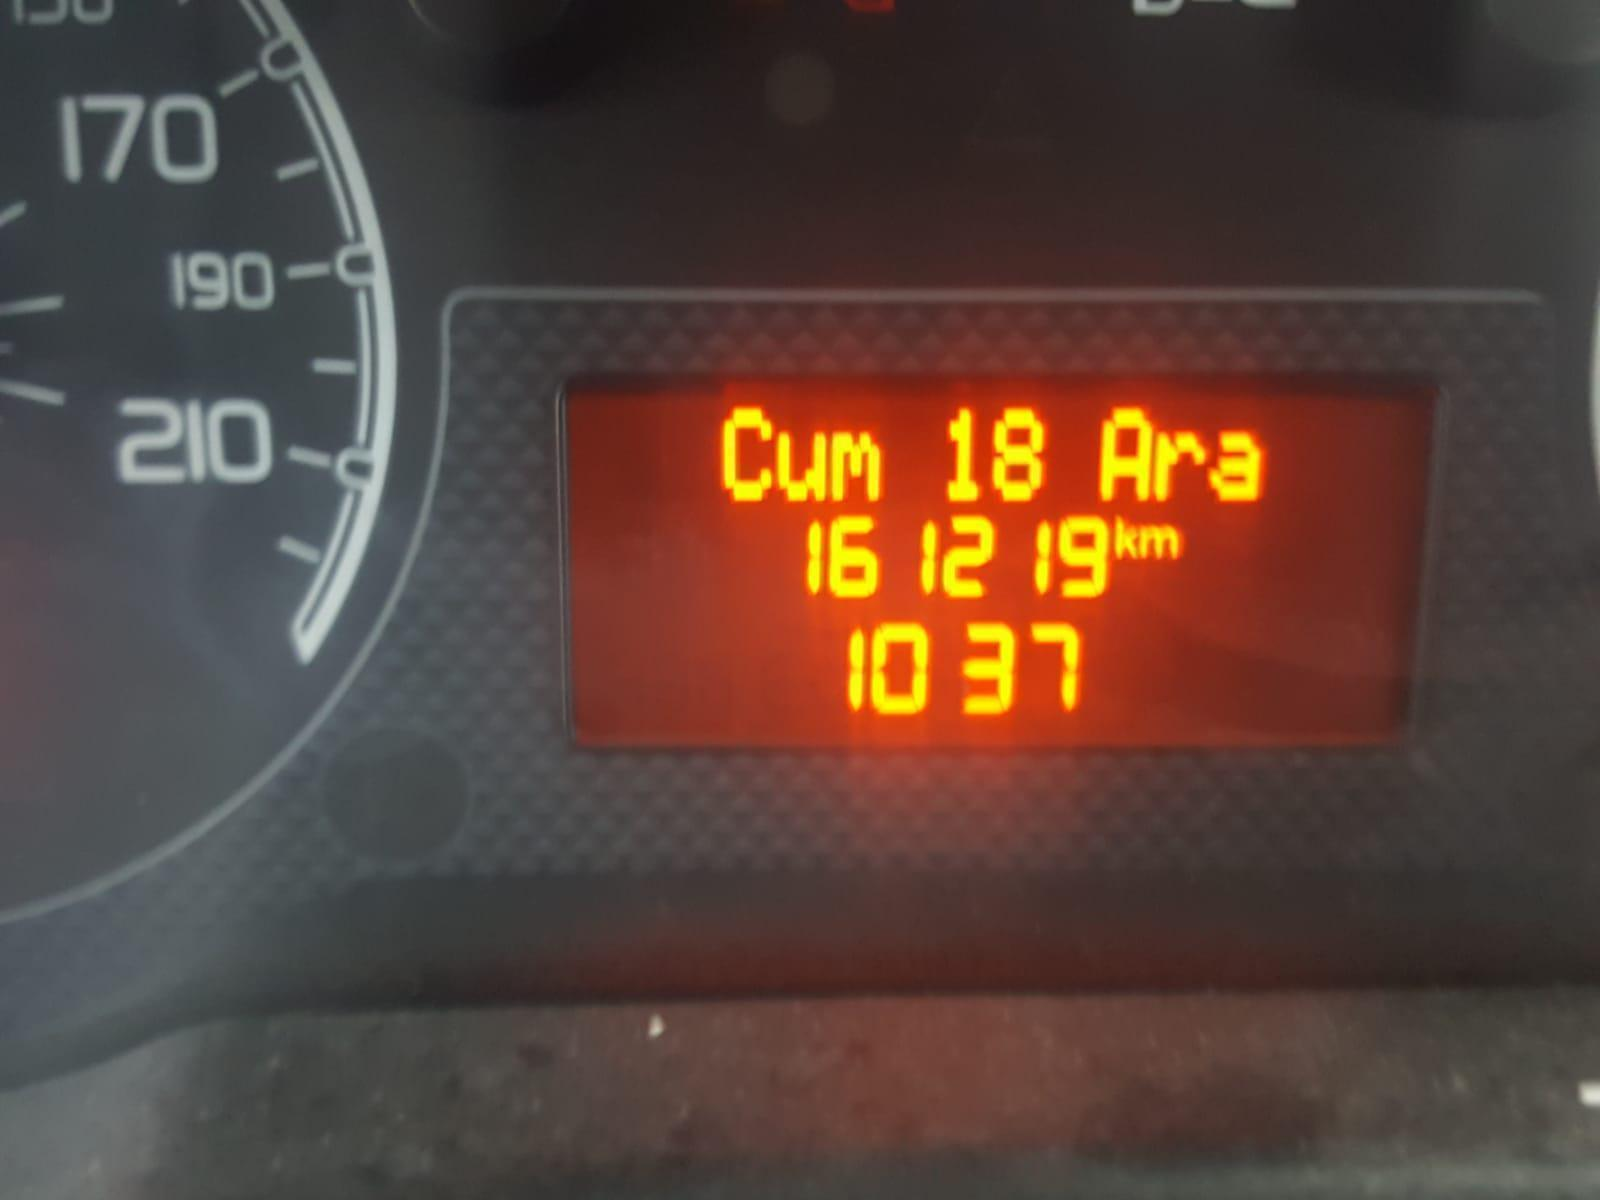0: (871, 620, 930, 718)
1: (936, 401, 986, 503), (837, 626, 866, 716), (797, 517, 825, 595), (912, 516, 937, 595), (1026, 516, 1051, 594)
2: (941, 512, 997, 600)
3: (960, 620, 1017, 717)
6: (830, 511, 879, 601)
7: (1026, 614, 1081, 715)
8: (986, 400, 1049, 505)
9: (1056, 512, 1109, 601)
X: (717, 400, 774, 505), (1096, 400, 1150, 503), (1207, 426, 1265, 505), (1149, 425, 1206, 502), (828, 426, 882, 505), (774, 426, 826, 505), (1141, 521, 1184, 560), (1112, 511, 1139, 562)
odometer: (548, 364, 1450, 760)
